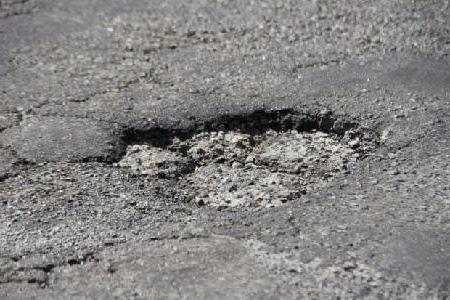pothole: (97, 105, 382, 215)
